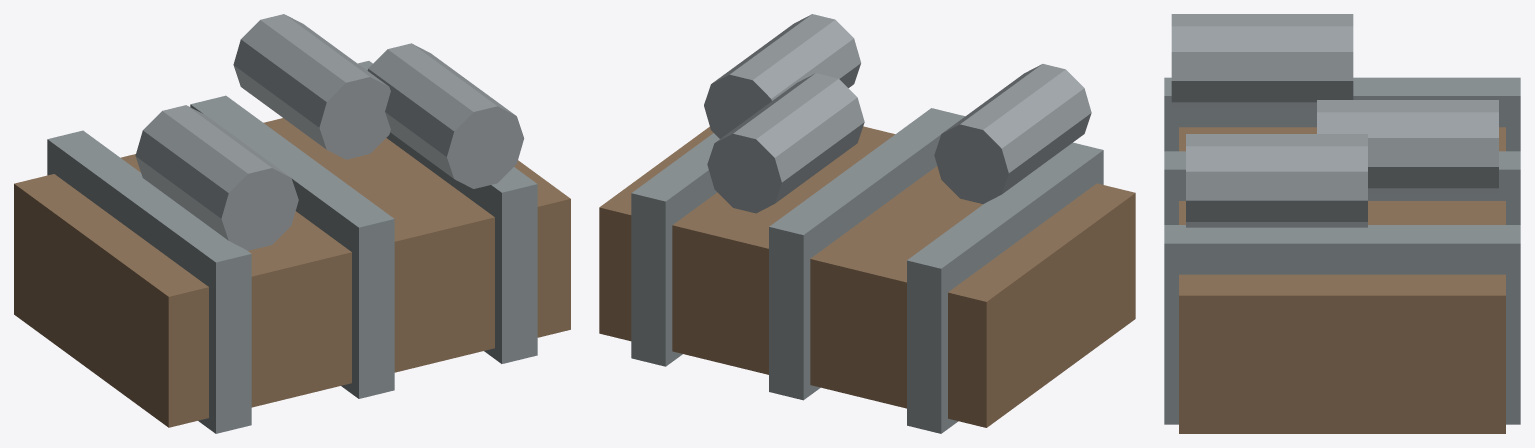
Rendered from loot_salvage_bundle.glb.
The picture shows the model from 3 angles, left to right: view 1: azimuth 30°, elevation 25°; view 2: azimuth 150°, elevation 25°; view 3: azimuth 270°, elevation 25°; orthographic projection. The views are drawn at different scales.
Parts seen in each view (by area): view 1: Crate, Band_0, Band_1, Scrap_0, Scrap_1, Scrap_2, Band_2; view 2: Crate, Band_0, Band_1, Scrap_1, Scrap_0, Band_2, Scrap_2; view 3: Crate, Band_2, Scrap_2, Scrap_0, Scrap_1, Band_0, Band_1.
Part boxes in pixels (box(x1,y1,x2,y2)): Crate: box(14, 118, 570, 427); Band_0: box(47, 130, 251, 433); Band_1: box(190, 95, 394, 398); Scrap_0: box(135, 105, 298, 250); Scrap_1: box(233, 14, 390, 159); Scrap_2: box(367, 43, 524, 188); Band_2: box(358, 61, 537, 363); Crate: box(599, 126, 1135, 427); Band_0: box(907, 142, 1103, 433); Band_1: box(769, 108, 964, 400); Scrap_1: box(707, 73, 864, 213); Scrap_0: box(934, 64, 1091, 203); Band_2: box(631, 133, 719, 366); Scrap_2: box(704, 14, 860, 138); Crate: box(1179, 127, 1505, 433); Band_2: box(1164, 225, 1520, 424); Scrap_2: box(1186, 134, 1367, 227); Scrap_0: box(1171, 14, 1353, 107); Scrap_1: box(1317, 100, 1498, 193); Band_0: box(1164, 77, 1520, 151); Band_1: box(1164, 151, 1520, 224).
Bounding box in the file's own units: 1.35 × 0.7986 × 0.98.
